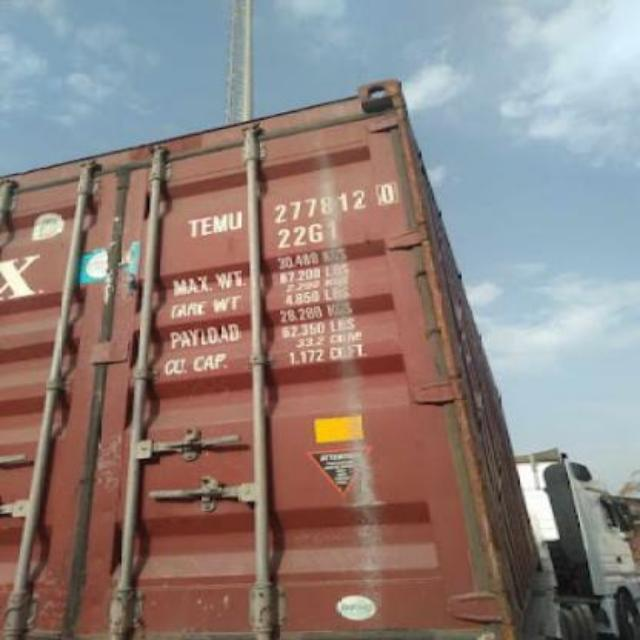0: (372, 182, 402, 208)
1: (336, 190, 349, 214)
2: (350, 187, 368, 211), (270, 200, 288, 223)
7: (302, 194, 318, 222), (287, 196, 303, 222)
8: (318, 193, 336, 219)
E: (202, 213, 212, 237)
M: (212, 208, 225, 236)
T: (185, 210, 201, 240)
U: (226, 203, 242, 235)
